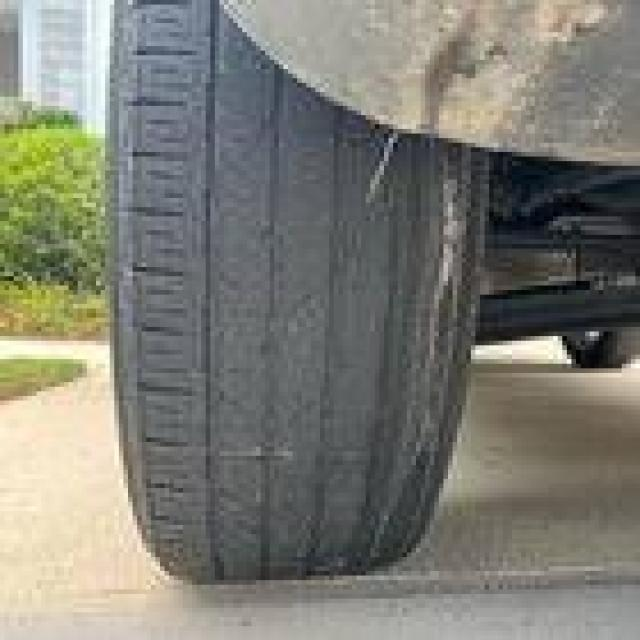Flat spots: (151, 137, 395, 530)
